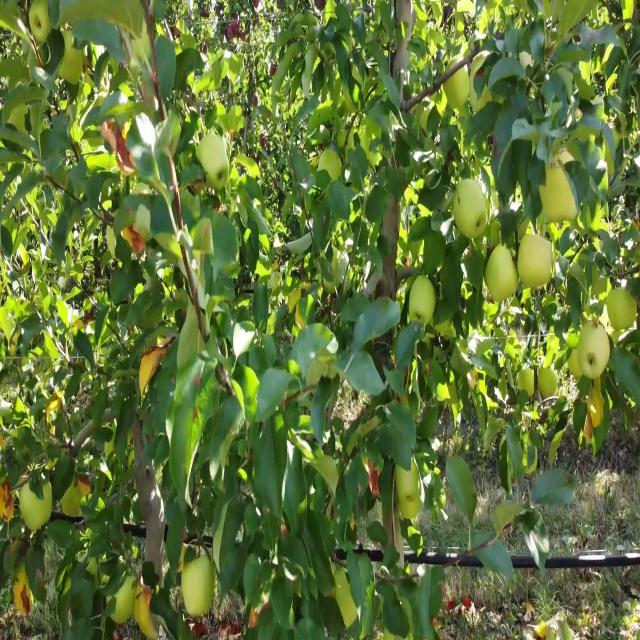apple: (452, 177, 492, 242), (540, 163, 578, 224), (520, 227, 555, 292), (184, 561, 216, 619), (488, 248, 519, 304), (396, 462, 423, 519), (608, 291, 640, 332), (136, 583, 159, 639), (412, 277, 436, 325), (140, 348, 163, 396), (60, 42, 85, 85), (337, 583, 359, 628), (28, 7, 53, 44), (400, 483, 423, 521), (597, 135, 615, 183), (588, 383, 606, 428), (588, 199, 607, 235), (476, 71, 492, 112), (116, 590, 134, 626), (0, 483, 16, 523), (124, 227, 145, 256), (16, 575, 32, 613), (364, 462, 380, 498), (48, 391, 64, 427), (540, 369, 559, 398), (568, 348, 584, 382), (104, 120, 119, 153), (544, 220, 563, 245), (596, 277, 612, 304), (548, 334, 560, 364), (436, 92, 448, 117), (524, 455, 537, 476), (80, 476, 92, 498), (520, 291, 532, 309), (480, 376, 488, 396), (232, 21, 241, 34), (228, 28, 235, 43), (260, 135, 267, 149), (240, 28, 246, 43), (272, 63, 277, 78), (0, 433, 4, 450)
